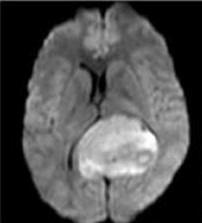Tumour-Meningioma: (60, 109, 162, 188)
